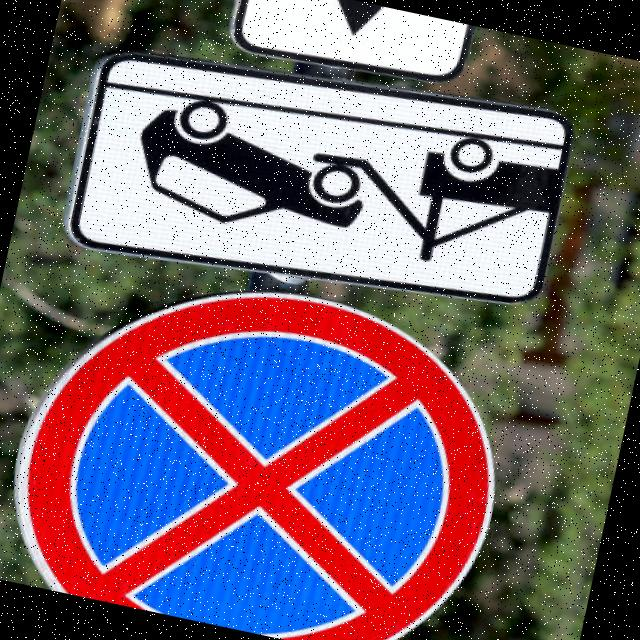no_parking: (0, 235, 539, 640)
